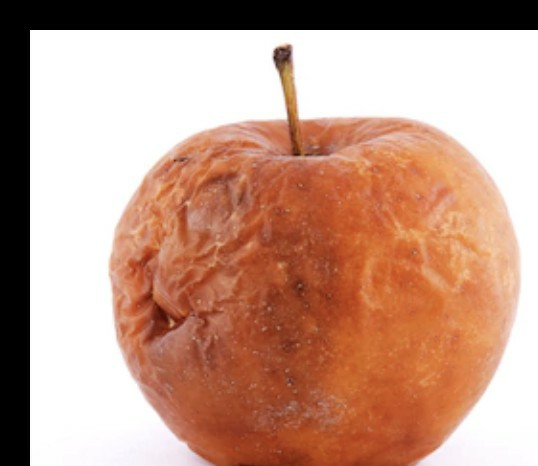rotten_apple: (109, 118, 521, 466)
